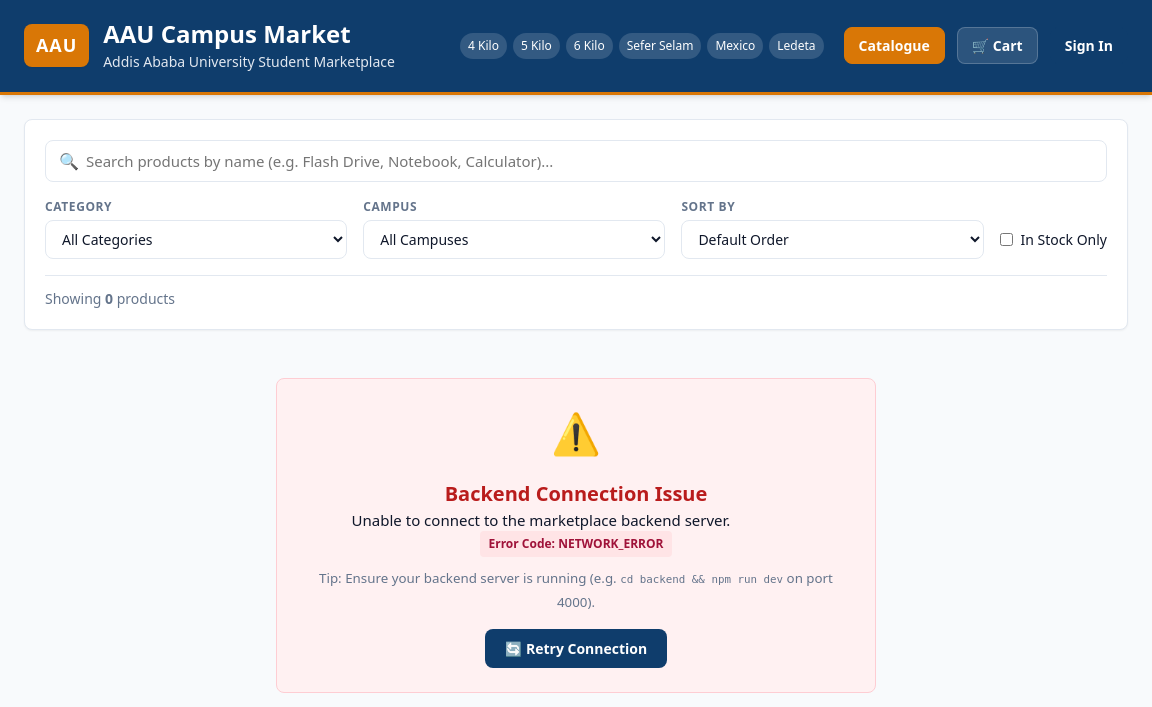
Test case: App Component - Product Catalogue & Interaction › handles backend connection failure and allows retry
This screenshot has width=1152, height=707.
Expected: the message is shown, [276, 378, 876, 693]
Expected: the heading "Backend Connection Issue" is shown, [445, 480, 707, 507]
// Click retry button
Click the button "🔄 Retry Connection" at [576, 649], box [485, 629, 667, 668]
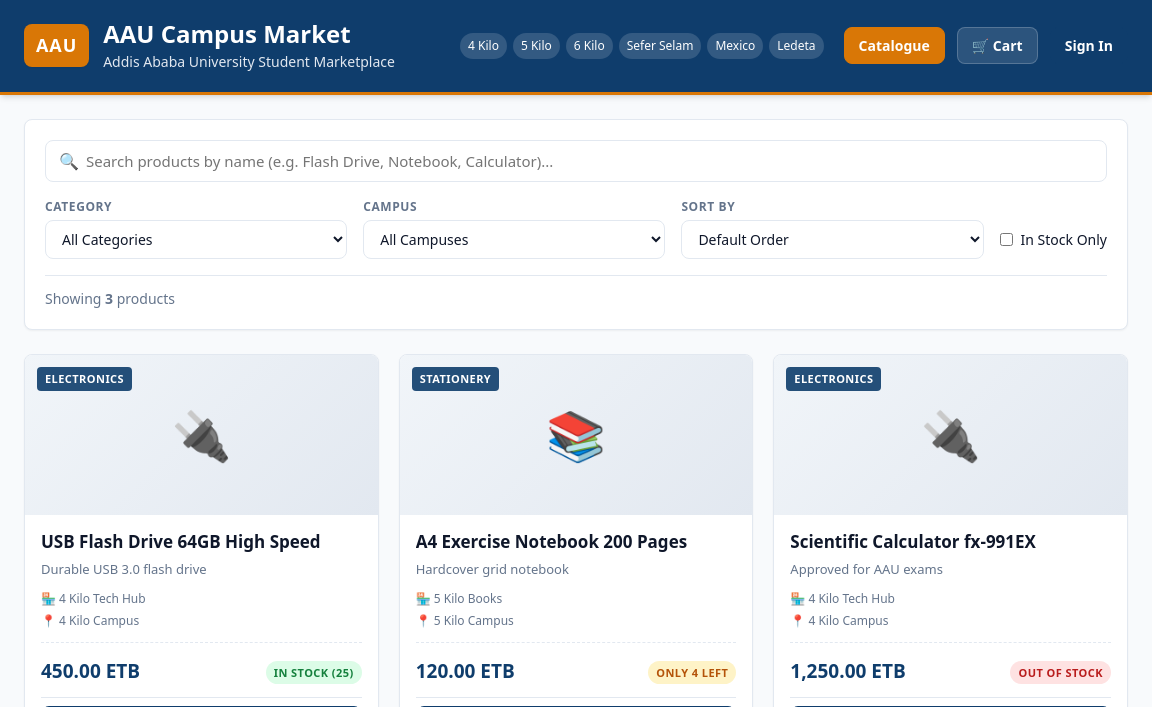
Expected: the heading "USB Flash Drive 64GB High Speed" is shown, [41, 531, 362, 554]
